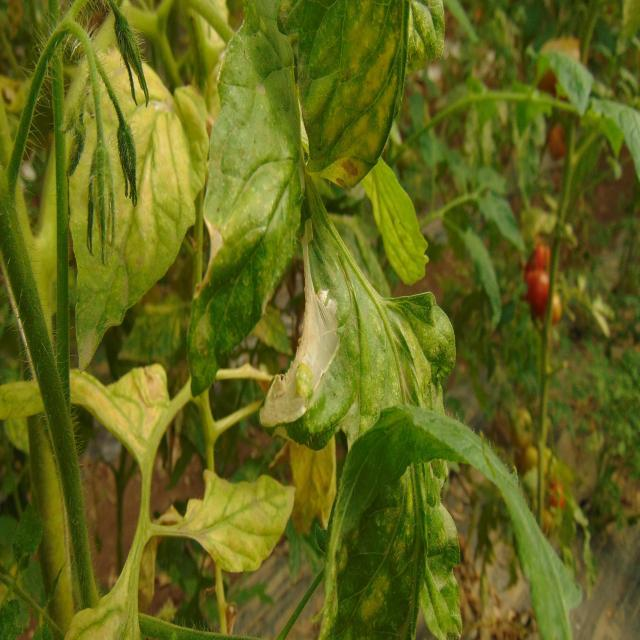Tuta absoluta: (258, 235, 362, 438)
